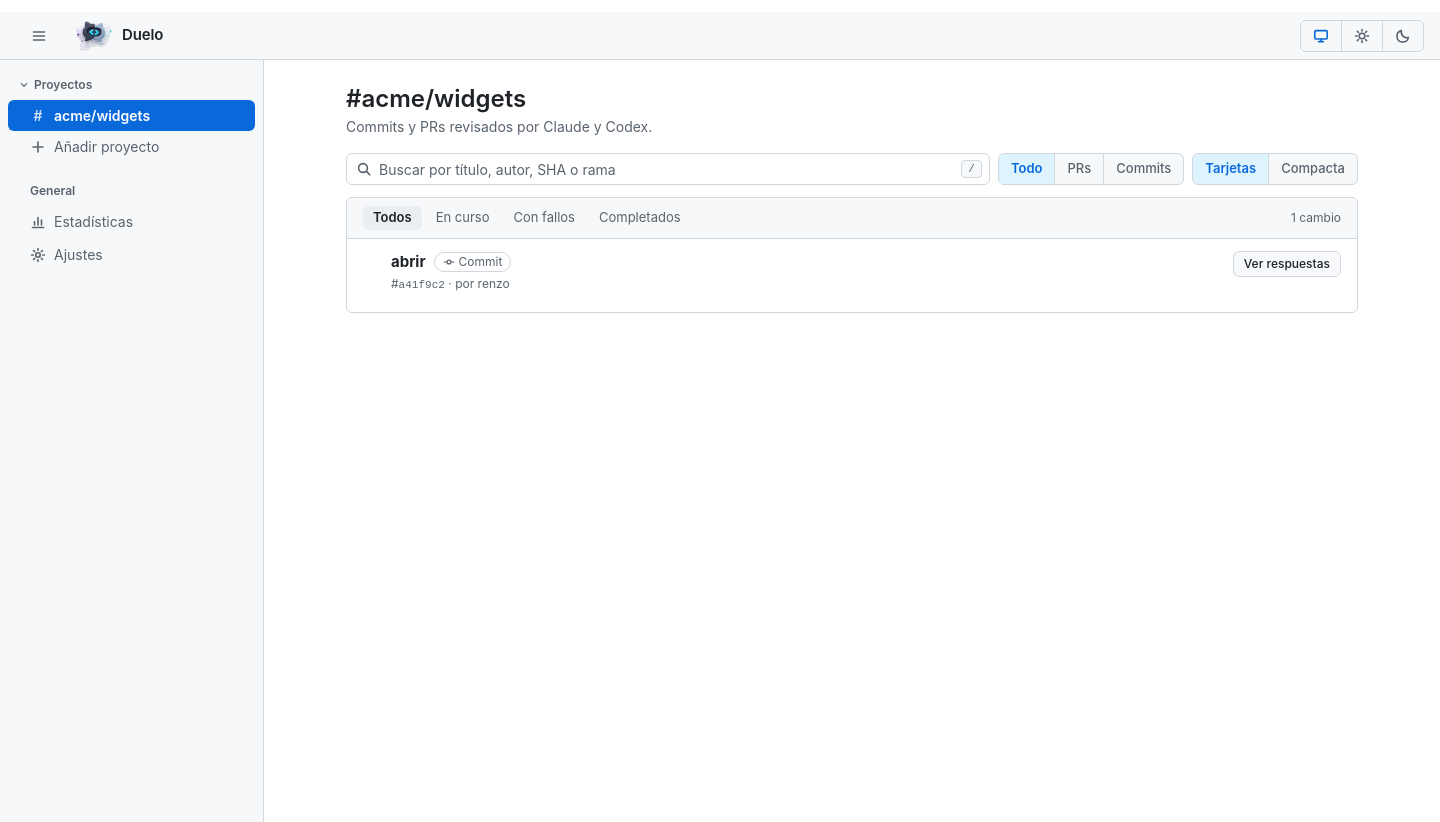
Test: project routes with an owner/repo slug (regression) › navigates from a card to its detail and from the sidebar to the channel
This screenshot has width=1440, height=822.
Click the link "abrir" at (408, 262), box [391,250,426,273]
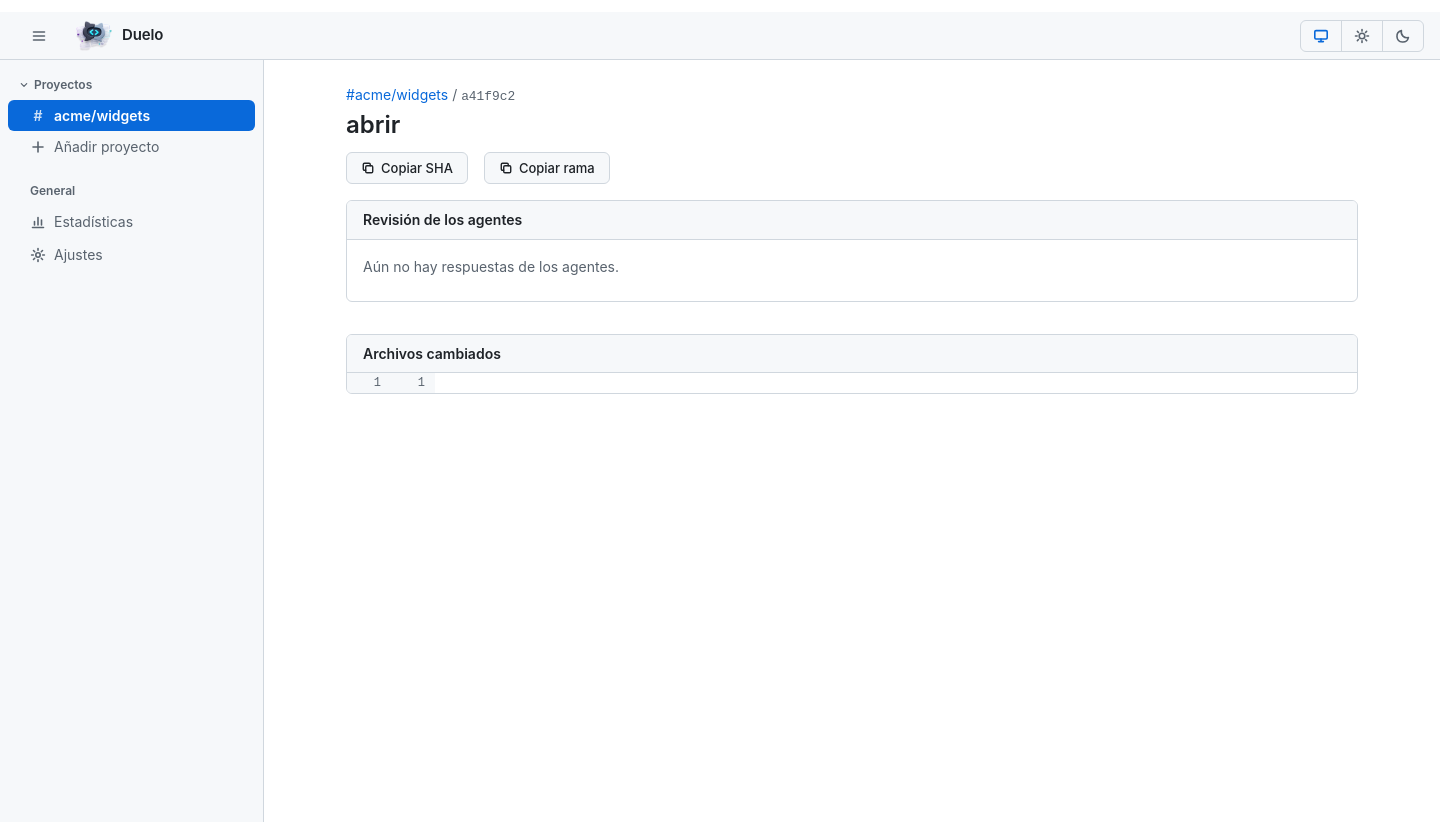
Check: the link "#acme/widgets" is shown, box [346,86,448,103]
